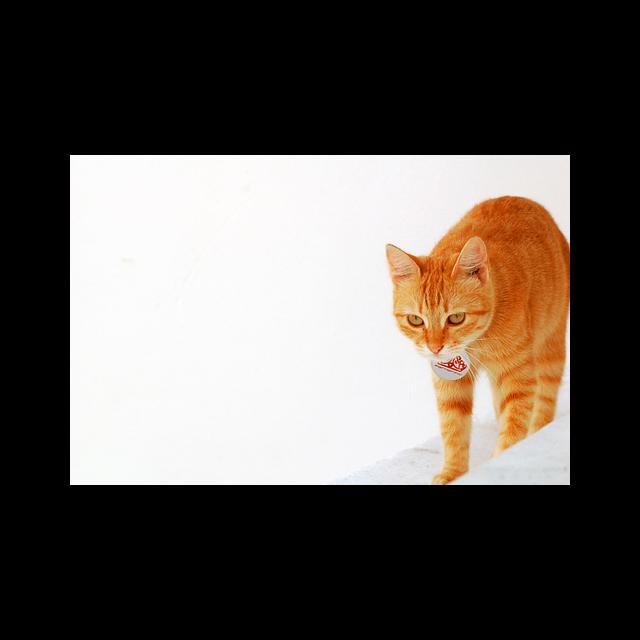animals: (387, 237, 486, 352)
